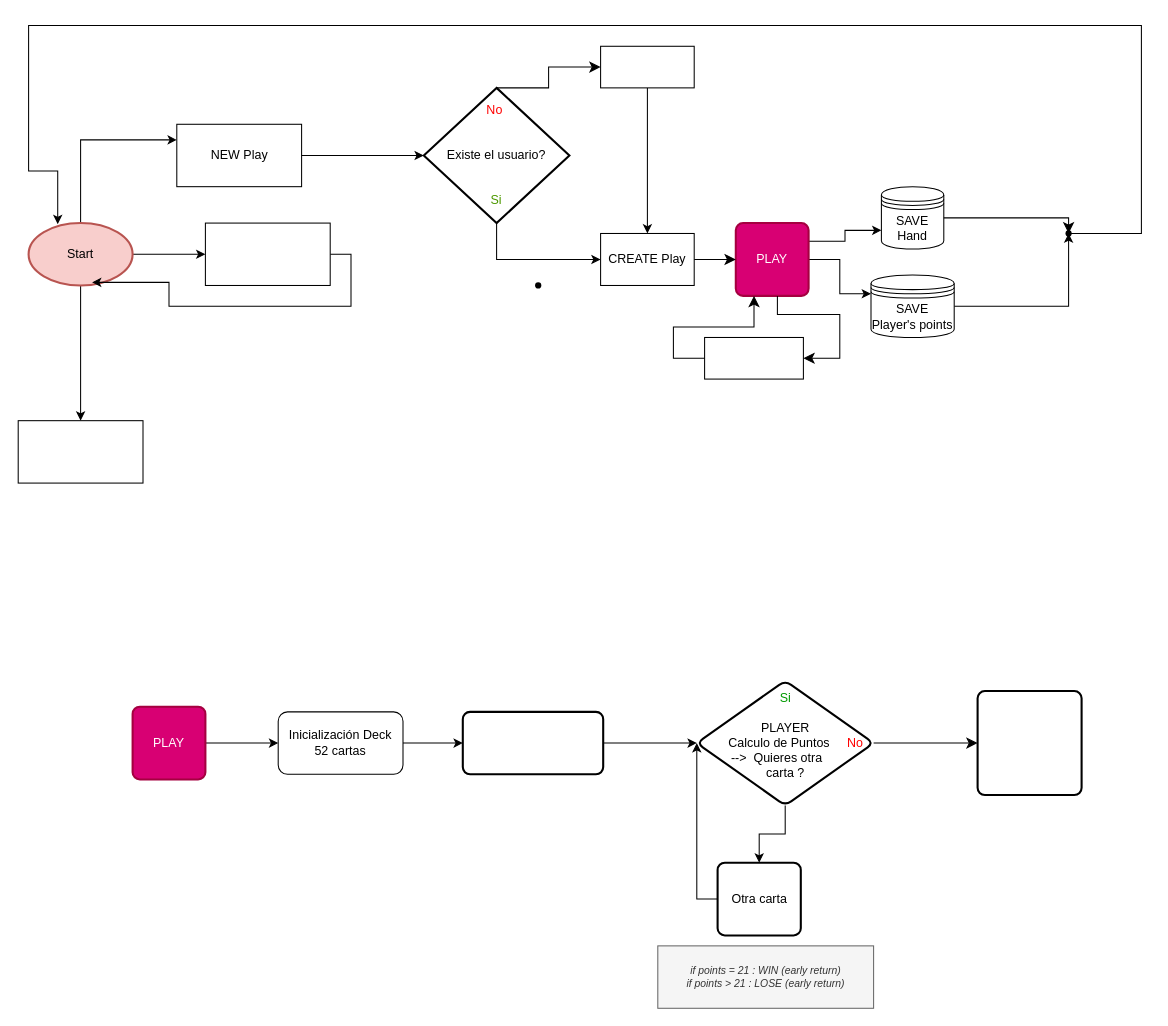
Some shapes in this 1168 by 1026 pixel diagram are drawn without their labels. Here are the shapes that lost their labels. From the top down, the box of each, then its label:
(600, 45, 694, 88): CREATE Player
(204, 222, 330, 285): GET Play (id)
(704, 336, 803, 379): EDIT Player's Name
(17, 420, 143, 483): EXIT
(461, 710, 604, 775): Distribución aleatoria : 2 cartas Player 2 cartas Banco
(976, 690, 1082, 796): BANCO While points <17, add card + calculate points
